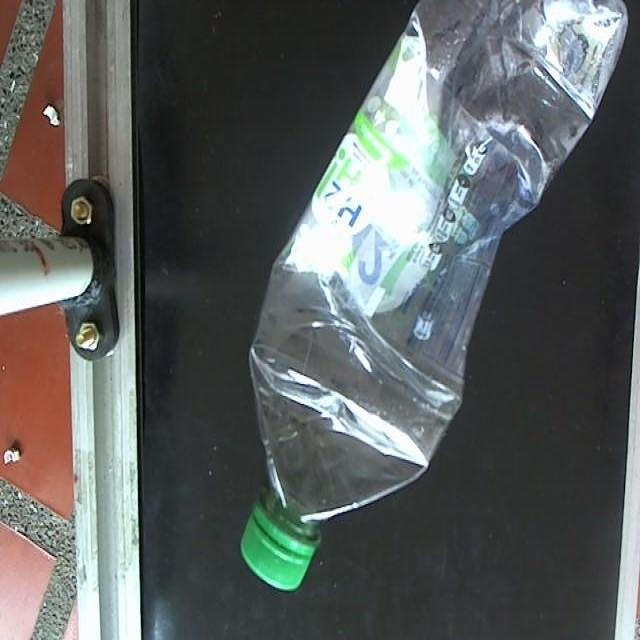defect: (236, 0, 631, 597)
